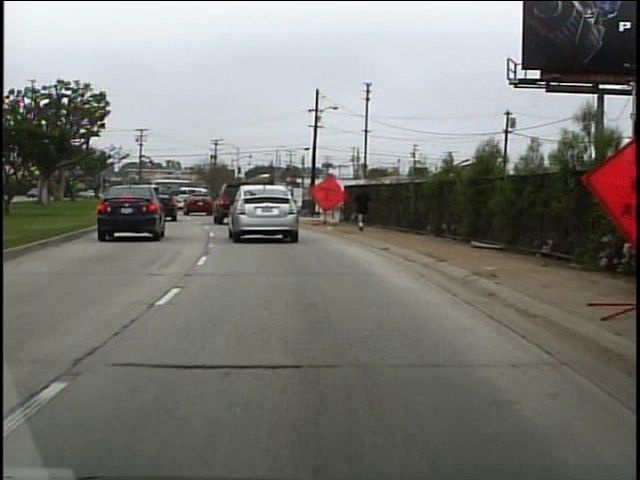person: (351, 179, 376, 233)
